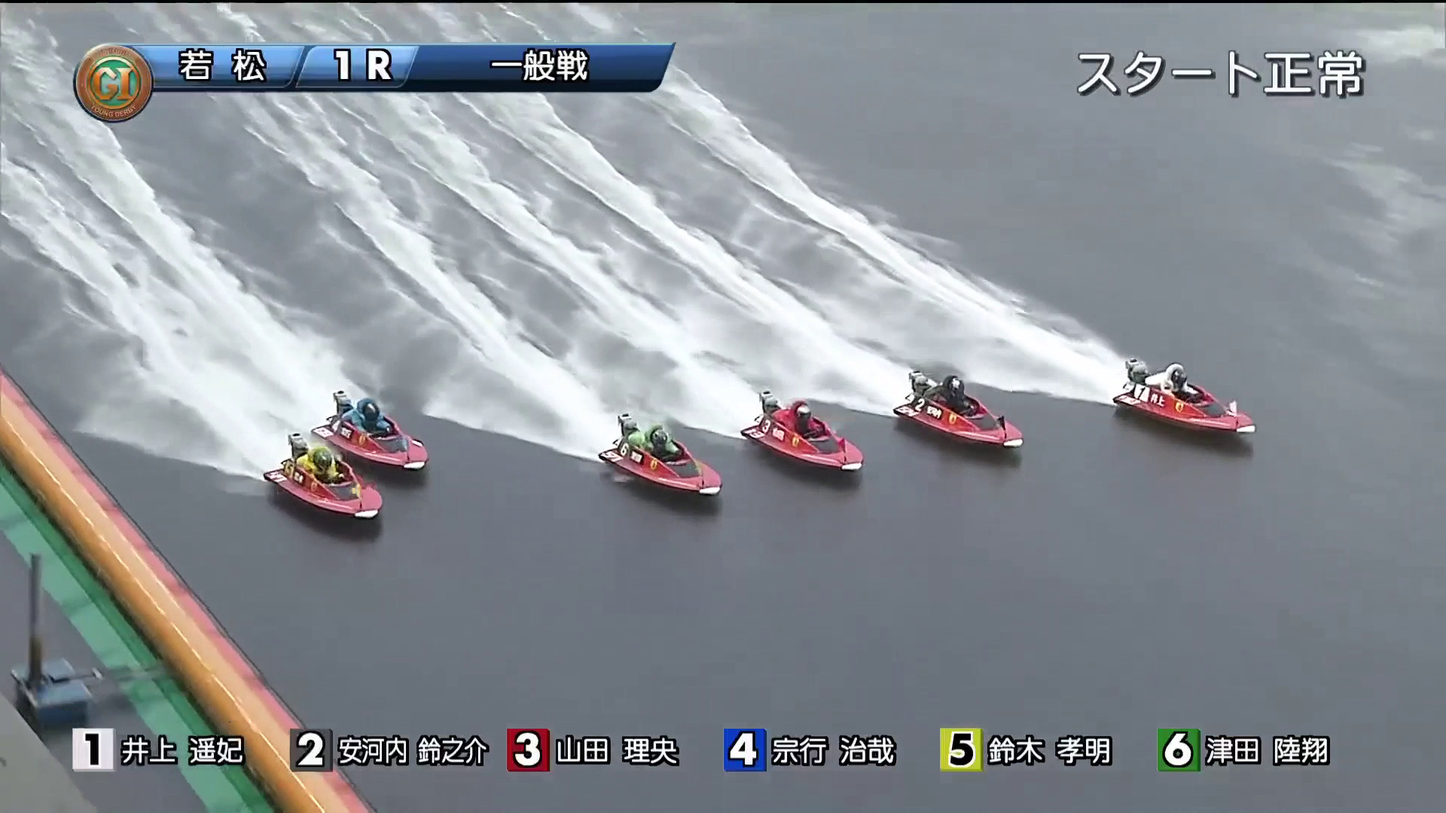１号艇: (1124, 361, 1244, 410)
２号艇: (905, 376, 1021, 428)
３号艇: (759, 425, 883, 467)
４号艇: (624, 444, 739, 502)
５号艇: (336, 420, 459, 475)
６号艇: (314, 492, 413, 548)
